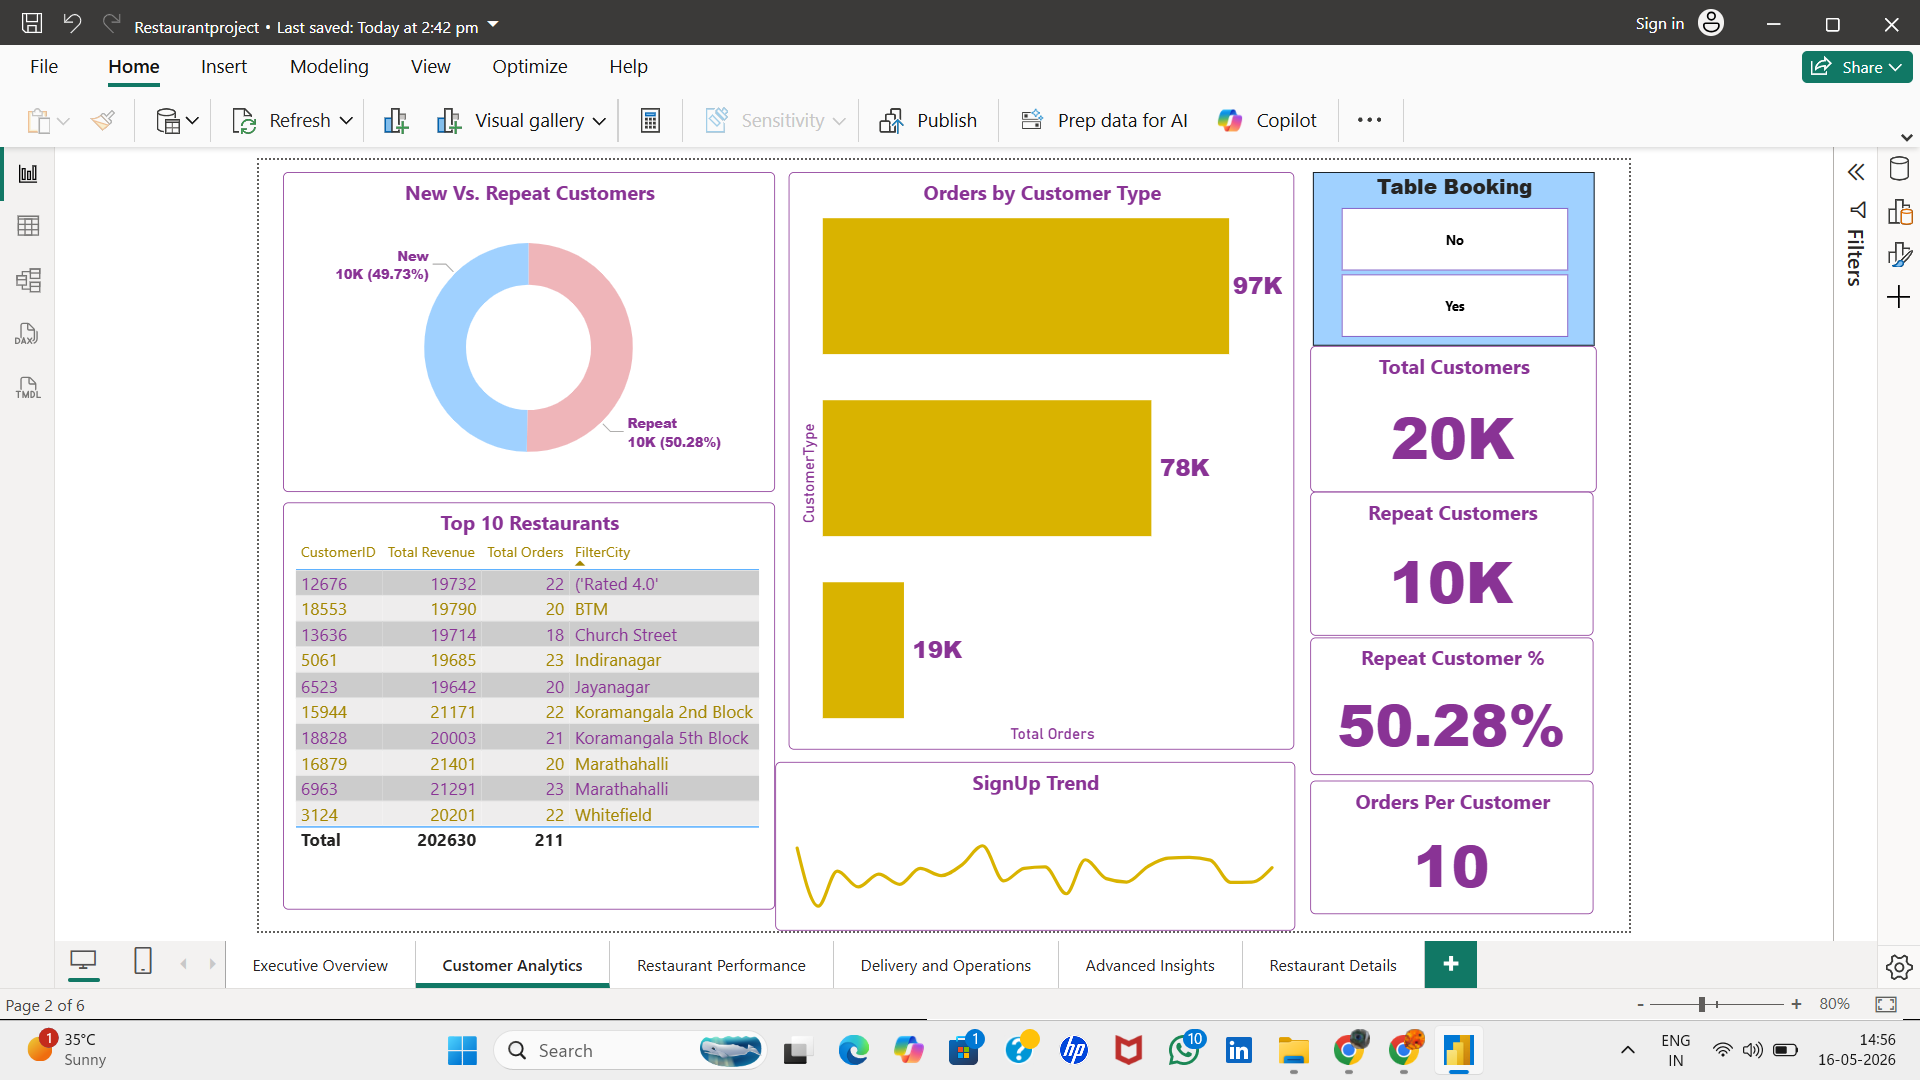

Layout of this report page (visuals, bound fields, positions):
{"tool":"powerbi","page":{"name":"Customer Analytics","canvas":[1280,720],"ordinal":1},"visuals":[{"type":"card","title":"Total Customers","fields":{"Values":["Orders.Total Customers"]},"box":[982.6,173.4,267.5,137.1],"z":0},{"type":"card","title":"Orders Per Customer","fields":{"Values":["Orders.Orders Per Customer"]},"box":[983,580.1,264.9,125.1],"z":1000},{"type":"card","title":"Repeat Customers","fields":{"Values":["Orders.Repeat Customers"]},"box":[983,310.3,264.9,134.9],"z":2000},{"type":"card","title":"Repeat Customer %","fields":{"Values":["Orders.Repeat Customer %"]},"box":[983,446.8,264.9,128.4],"z":3000},{"type":"lineChart","title":"SignUp Trend","fields":{"Category":["Customers.SignupDate.Variation.Date Hierarchy.Year","Customers.SignupDate.Variation.Date Hierarchy.Month"],"Y":["Orders.Total Customers"]},"box":[482.6,562.2,485.8,157.6],"z":4000},{"type":"barChart","title":"Orders by Customer Type","fields":{"Y":["Orders.Total Orders"],"Category":["Customers.CustomerType"]},"box":[495.6,11.4,472.8,539.4],"z":5000},{"type":"donutChart","title":"New Vs. Repeat Customers","fields":{"Category":["Customers.RepeatedVsNew"],"Y":["Orders.Total Customers"]},"box":[22.9,10.8,459.8,299.3],"z":6000},{"type":"tableEx","title":"Top 10 Restaurants","fields":{"Values":["Customers.CustomerID","Orders.Total Revenue","Orders.Total Orders","Customers.FilterCity"]},"box":[22.9,319.9,459.7,380.4],"z":7000},{"type":"slicer","title":"Table Booking","fields":{"Values":["Restaurants.Book_Table 2"]},"box":[984.7,11.4,263.2,162.5],"z":8000}]}

Visuals, with their boxes on the page's 1280x720 design canvas (x1, y1, x2, y2). These are canvas units, not pixel positions in the 1920x1080 screenshot, which may show the page scaled, cropped or inside an application window:
"Total Customers" card: pyautogui.locateOnScreen(983, 173, 1250, 310)
"Orders Per Customer" card: pyautogui.locateOnScreen(983, 580, 1248, 705)
"Repeat Customers" card: pyautogui.locateOnScreen(983, 310, 1248, 445)
"Repeat Customer %" card: pyautogui.locateOnScreen(983, 447, 1248, 575)
"SignUp Trend" lineChart: pyautogui.locateOnScreen(483, 562, 968, 720)
"Orders by Customer Type" barChart: pyautogui.locateOnScreen(496, 11, 968, 551)
"New Vs. Repeat Customers" donutChart: pyautogui.locateOnScreen(23, 11, 483, 310)
"Top 10 Restaurants" tableEx: pyautogui.locateOnScreen(23, 320, 483, 700)
"Table Booking" slicer: pyautogui.locateOnScreen(985, 11, 1248, 174)
